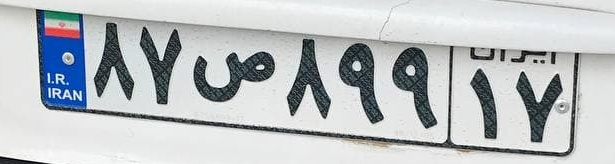character: (186, 27, 279, 115), (279, 31, 335, 122), (387, 44, 441, 135), (334, 38, 387, 129), (510, 64, 567, 147), (86, 17, 137, 106), (135, 20, 186, 109), (458, 65, 504, 146)
